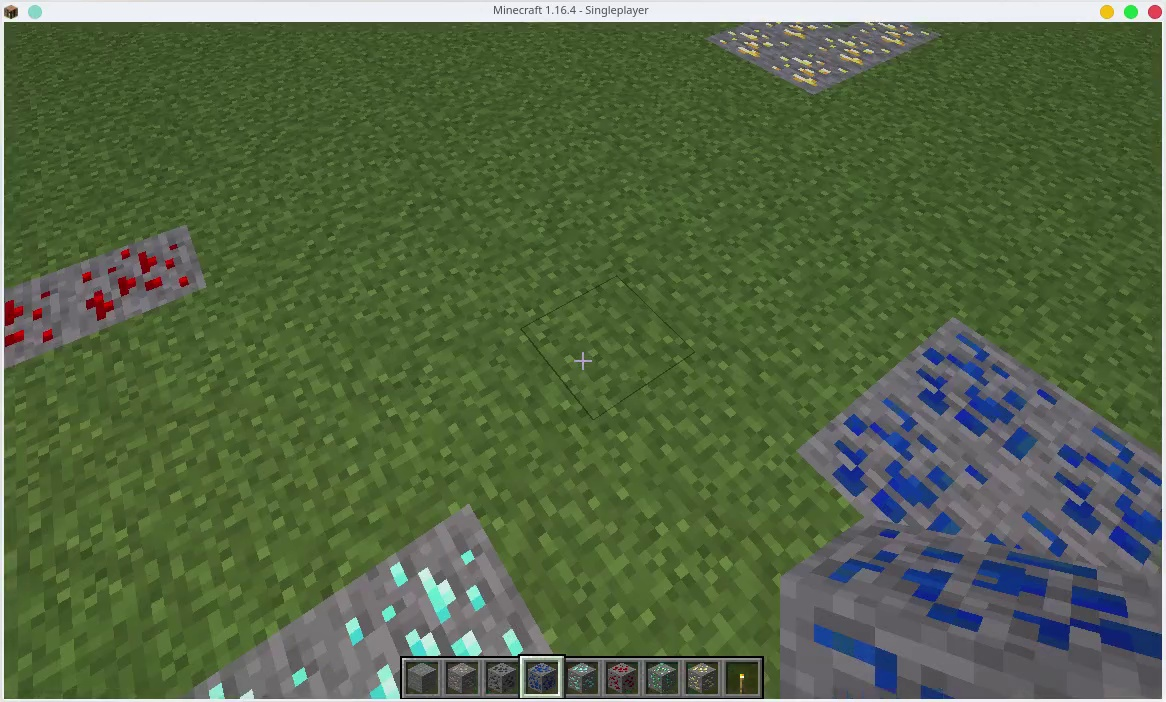gold: (778, 54, 840, 92), (869, 20, 926, 54), (826, 37, 881, 68), (724, 29, 773, 59), (781, 20, 821, 43), (687, 665, 716, 692)
